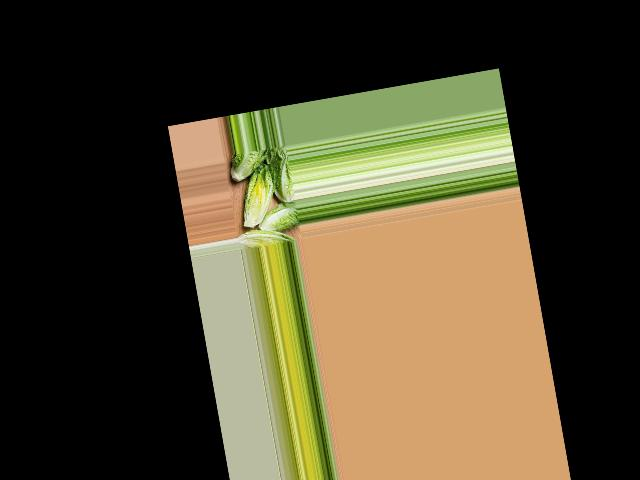lettuce: (237, 222, 295, 251)
